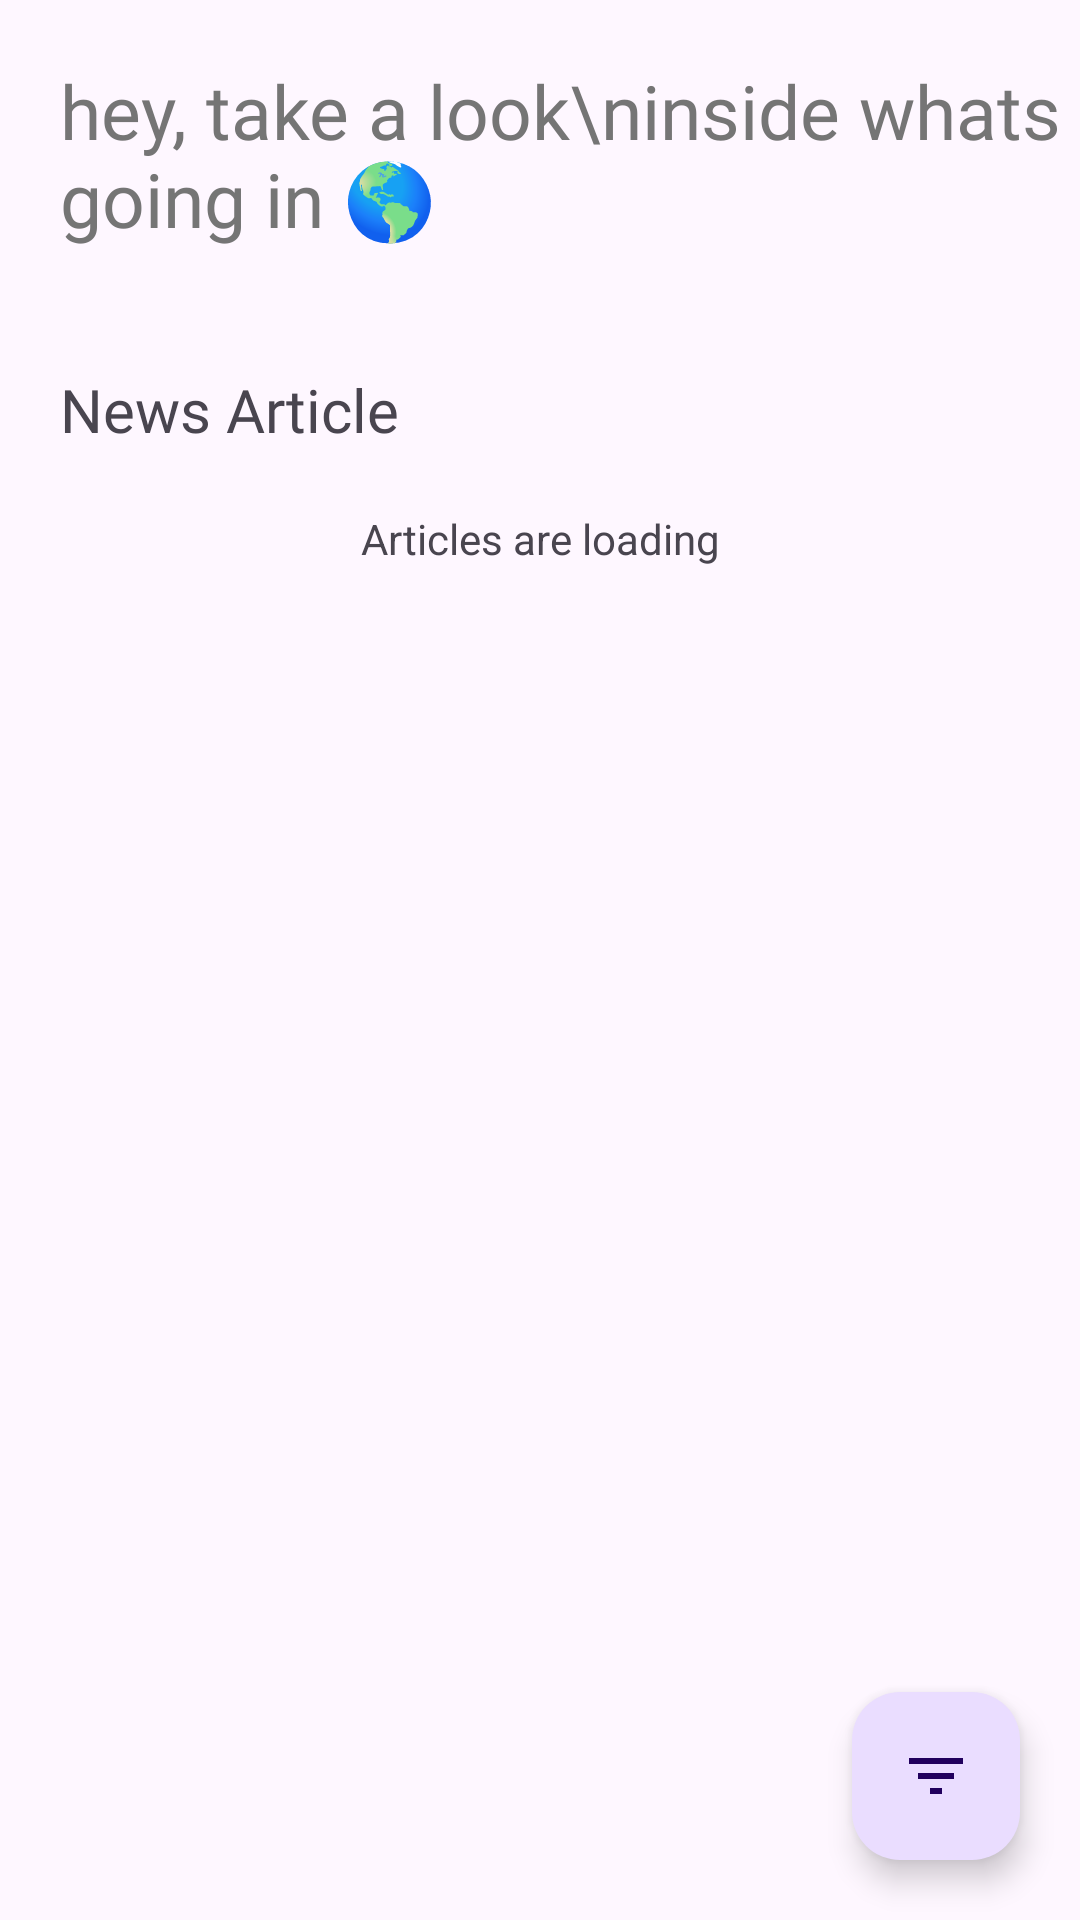

Icon click points for this 1080 x 1920 phone screenshot, format point (x, y):
filter: point (936, 1776)
